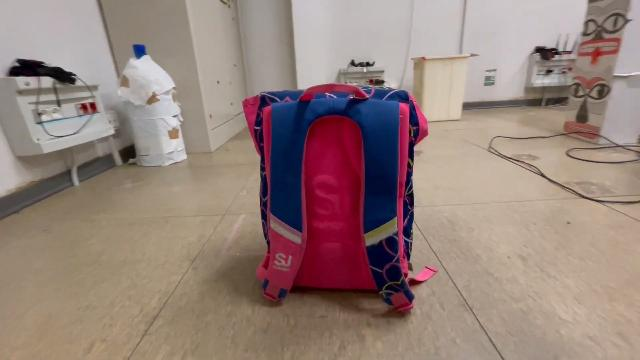Backpack: (236, 78, 444, 322)
